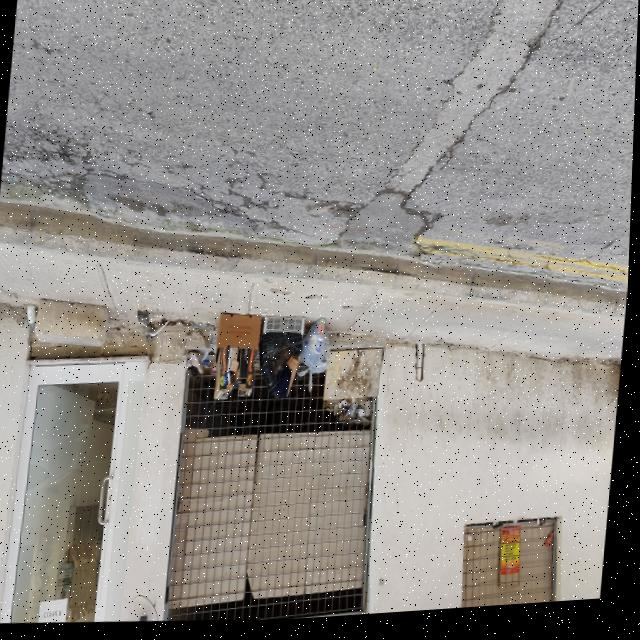Organic Waste -White Bag-: (302, 320, 338, 384)
Other: (215, 316, 264, 406), (259, 317, 308, 403)
